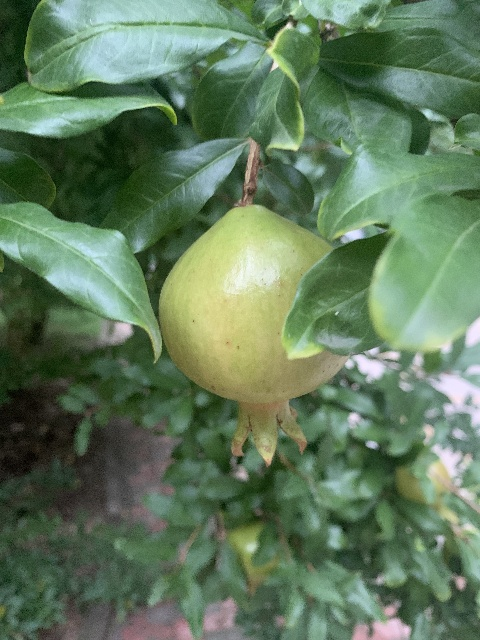mid-growth: (157, 205, 347, 467)
